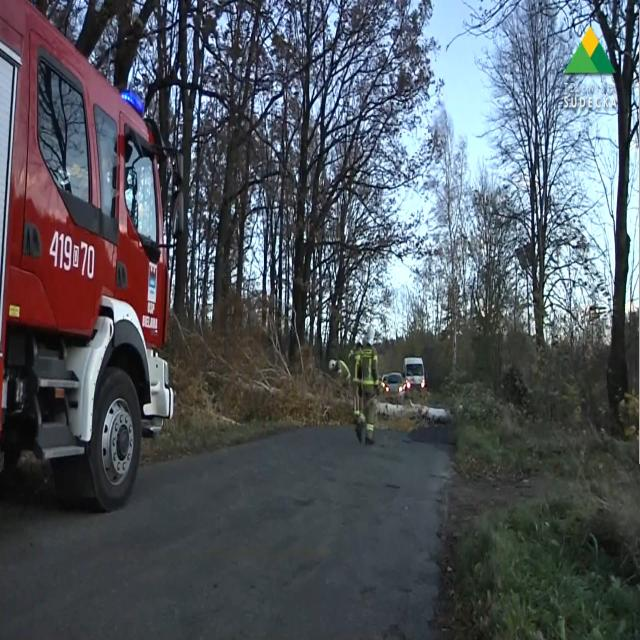fallen_tree: (379, 396, 460, 438)
